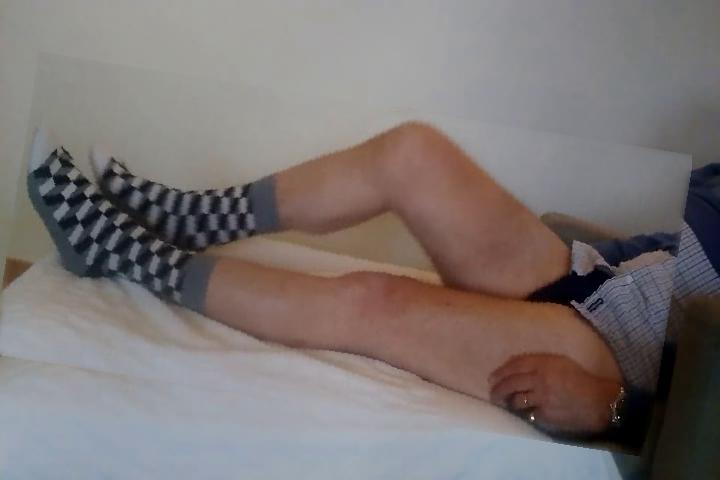lower_body: (1, 78, 684, 434)
